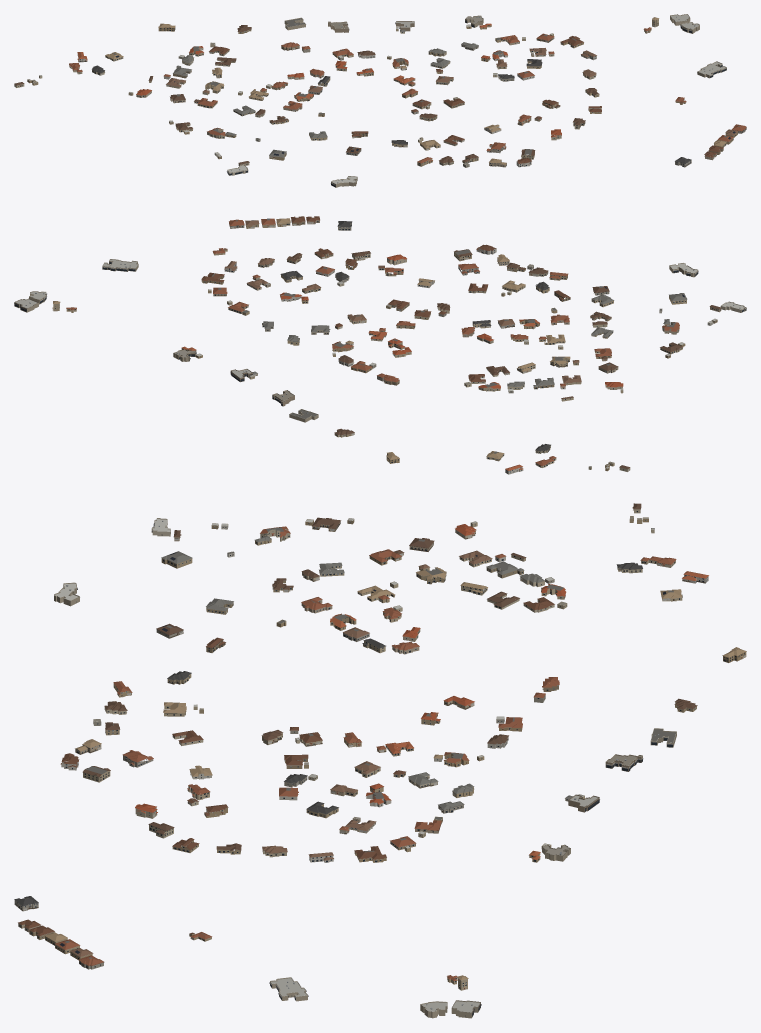
3 views of the same model, one above another, from view 1: azimuth 30°, elevation 25°; view 2: azimuth 150°, elevation 25°; view 3: azimuth 270°, elevation 25° (orthographic). The views are drawn at different scales.
Parts seen in each view (by area): view 1: buildings_r0_c0_lod0; view 2: buildings_r0_c0_lod0; view 3: buildings_r0_c0_lod0.
Boxes of the visible parts, left/top/right/bottom form: buildings_r0_c0_lod0: left=14, top=14, right=746, bottom=187; buildings_r0_c0_lod0: left=14, top=216, right=746, bottom=474; buildings_r0_c0_lod0: left=14, top=503, right=746, bottom=1018.
Bounding box in the file's own units: 1140 × 118 × 784.
